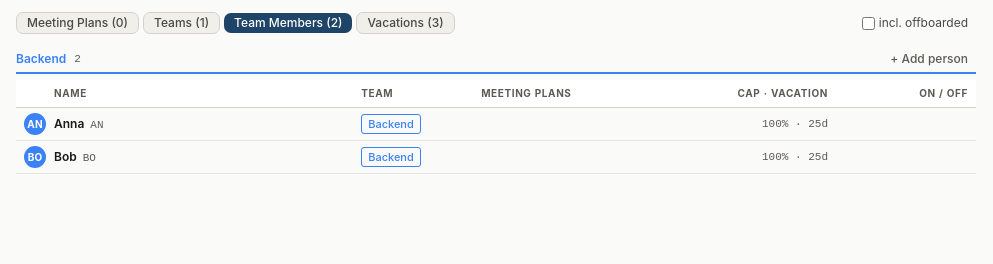
Test: Vacation filter › narrows by year filter
This screenshot has width=993, height=264.
Click the button "Vacations (3)": (406, 23) [356,12,455,34]
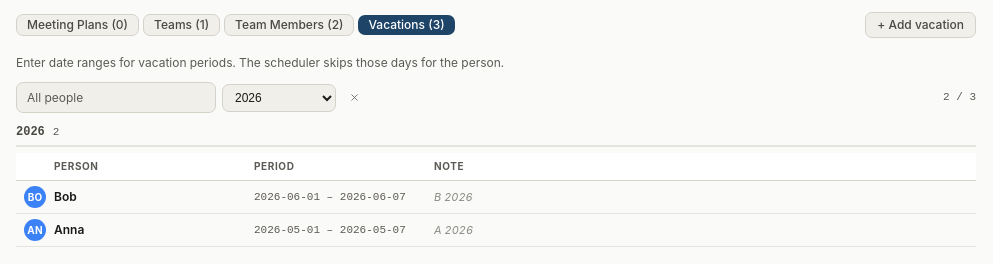
Now the text "A 2026" is shown, box [426,214,976,246]
Now the text "B 2026" is shown, box [426,180,976,214]
